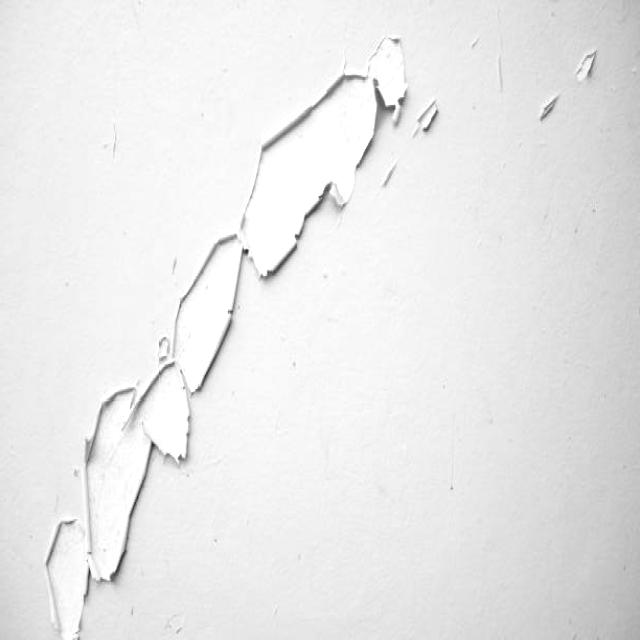peeling paint: (31, 0, 614, 640)
